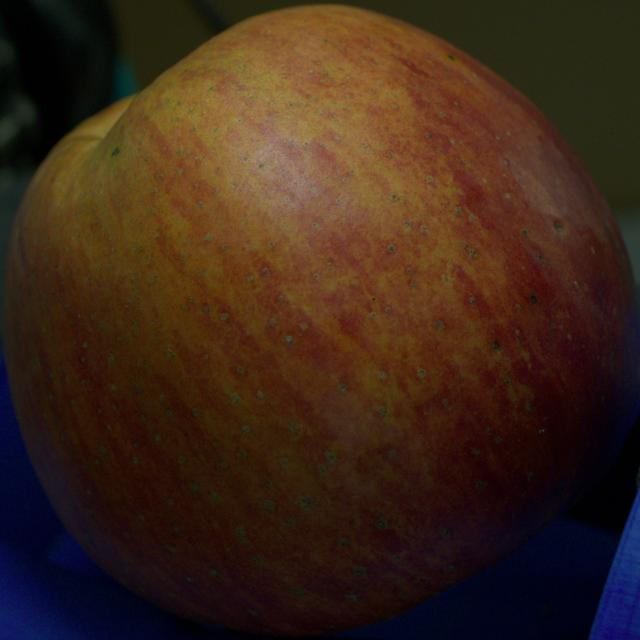apple: (4, 6, 639, 636)
bruise: (589, 280, 637, 383)
pest: (492, 341, 499, 350), (554, 222, 561, 231), (530, 295, 536, 303)
